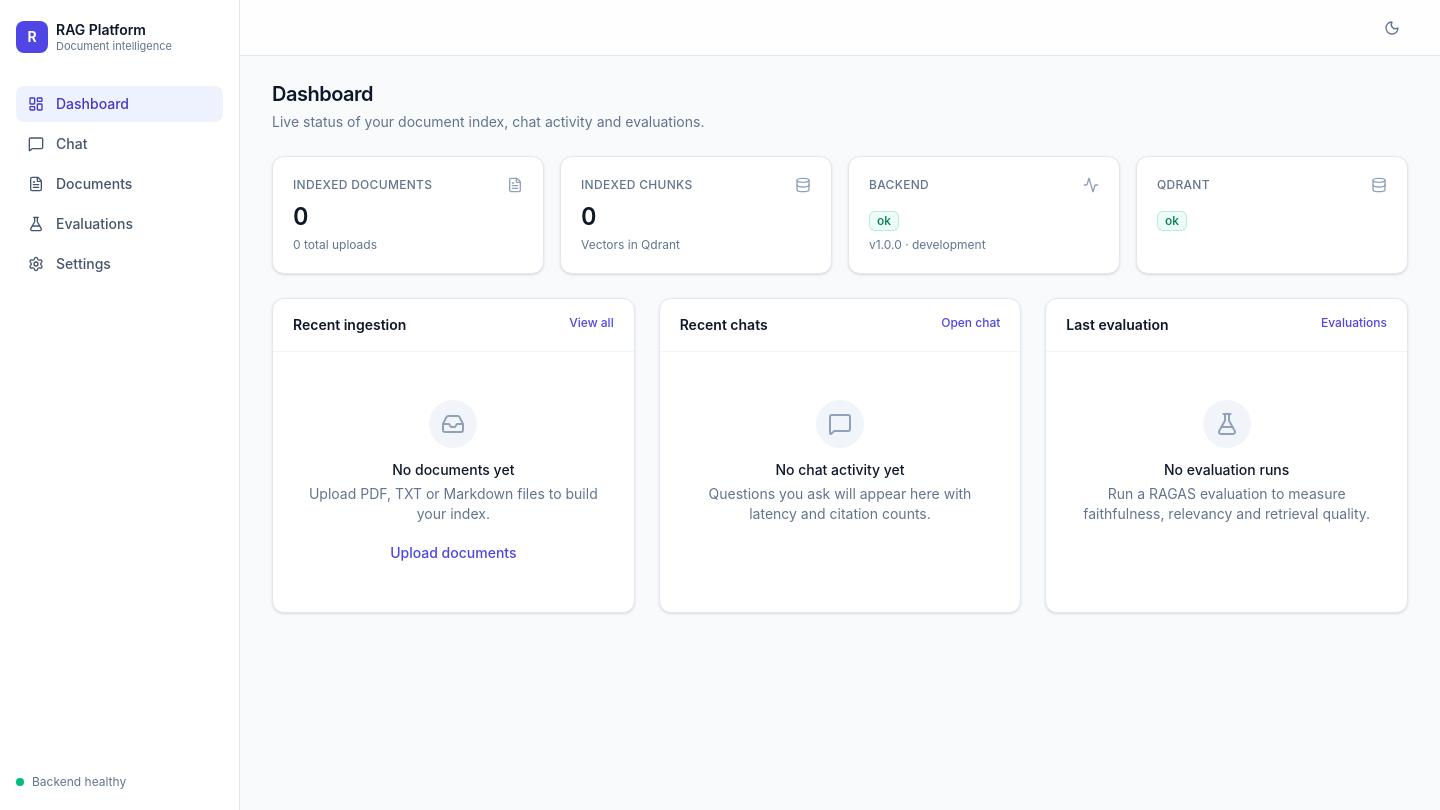
Test: App shell › navigates between pages via the sidebar
Click the link "Documents".
click(80, 183)  # box [28, 175, 132, 192]
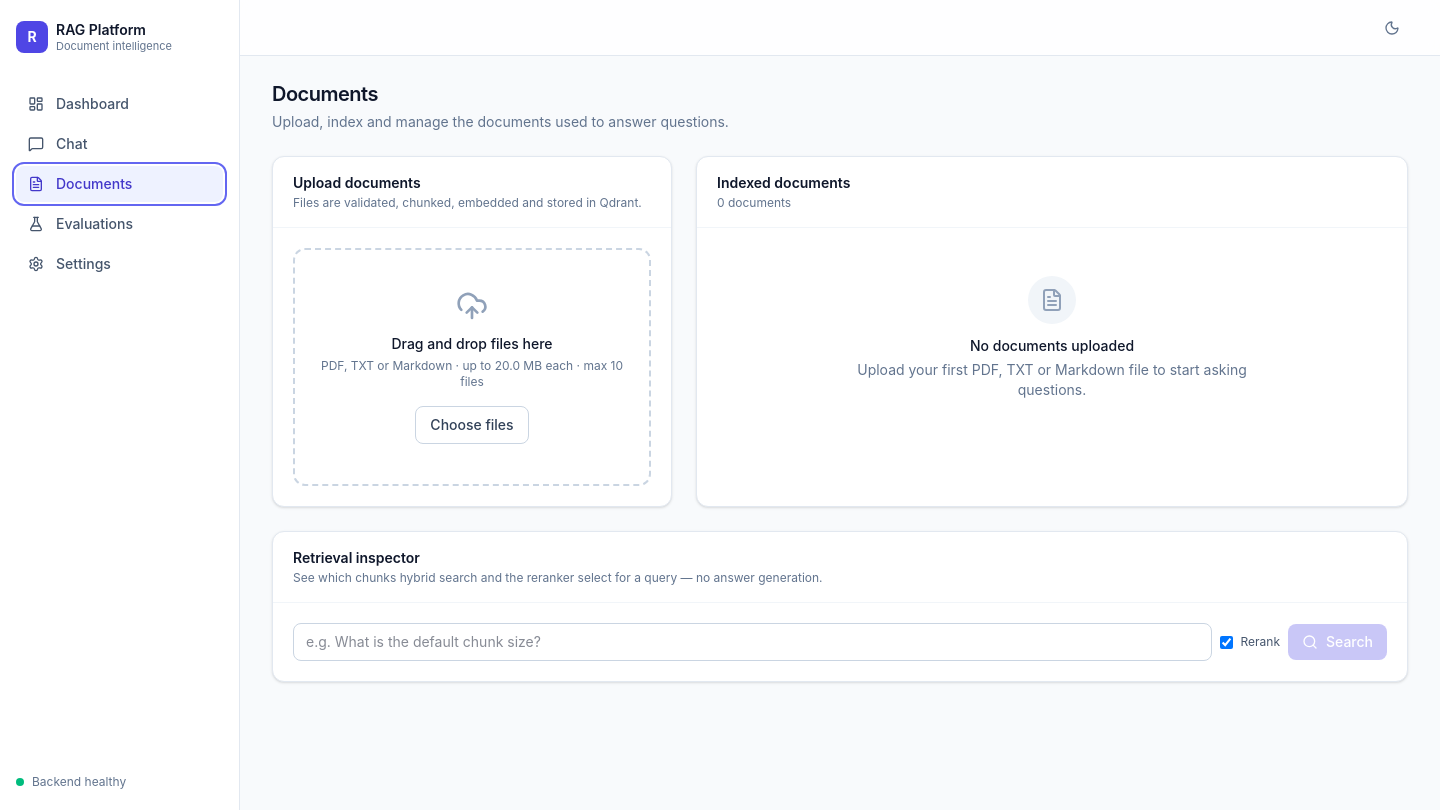
Expected: the heading "Documents" is shown, [272, 82, 378, 106]
Click the link "Chat".
click(58, 143)  # box [28, 135, 87, 152]
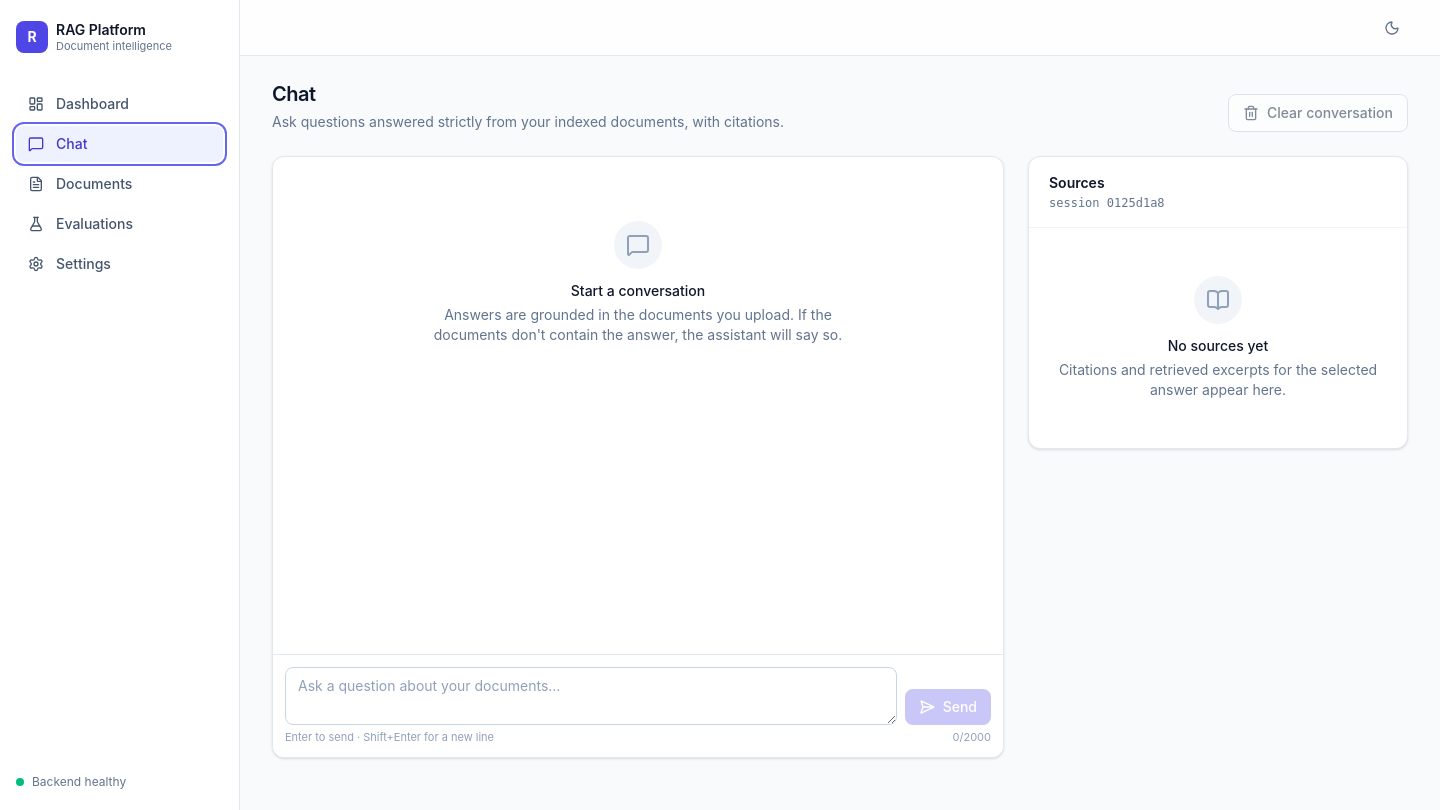
Expected: the heading "Chat" is shown, [272, 82, 316, 106]
Click the link "Evaluations".
click(80, 223)  # box [28, 215, 133, 232]
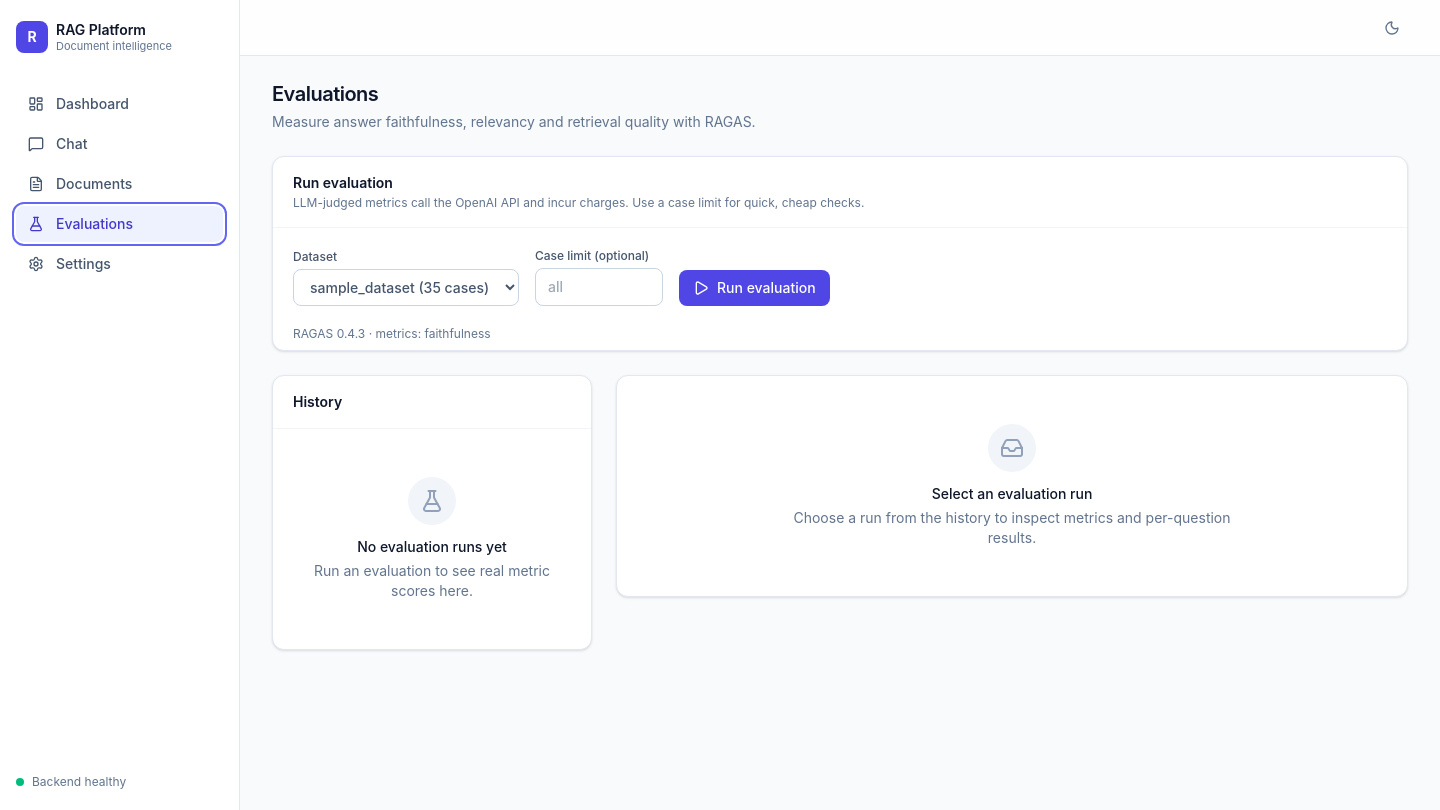
Expected: the heading "Evaluations" is shown, [272, 82, 378, 106]
Click the link "Settings".
click(69, 263)  # box [28, 255, 111, 272]
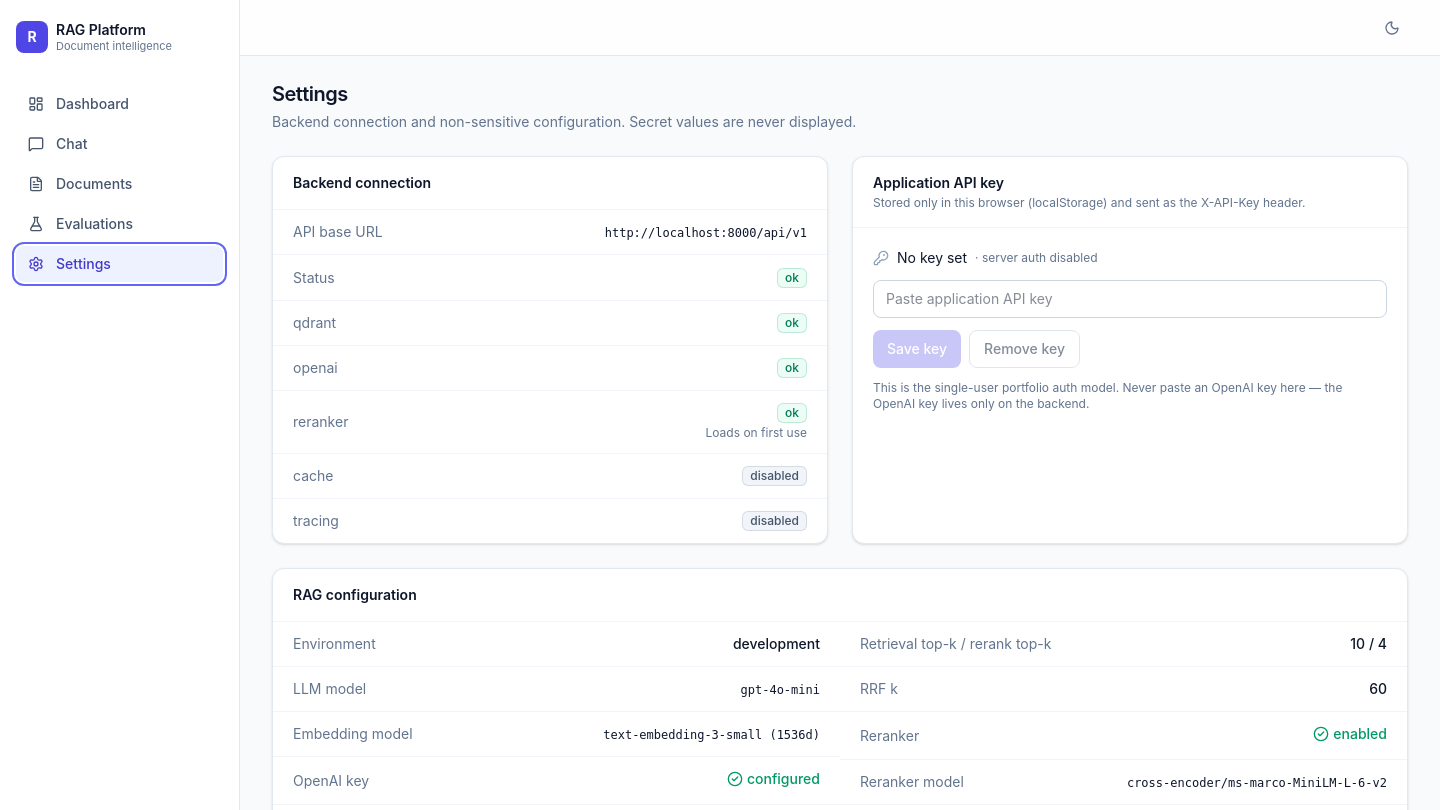
Expected: the heading "Settings" is shown, [272, 82, 348, 106]
